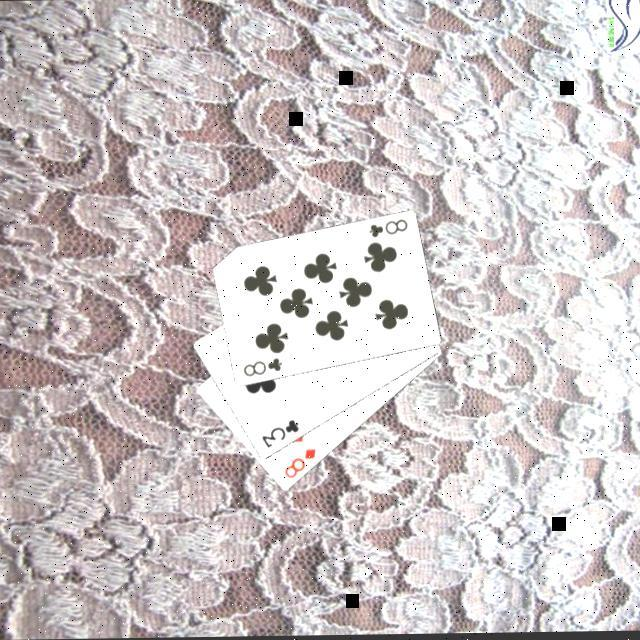3C: (260, 414, 304, 450)
8C: (241, 354, 287, 379), (366, 215, 412, 240)
8D: (283, 444, 321, 480)
